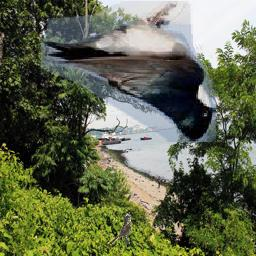Sparrow: (109, 212, 132, 245)
Swallow: (42, 2, 217, 143)
